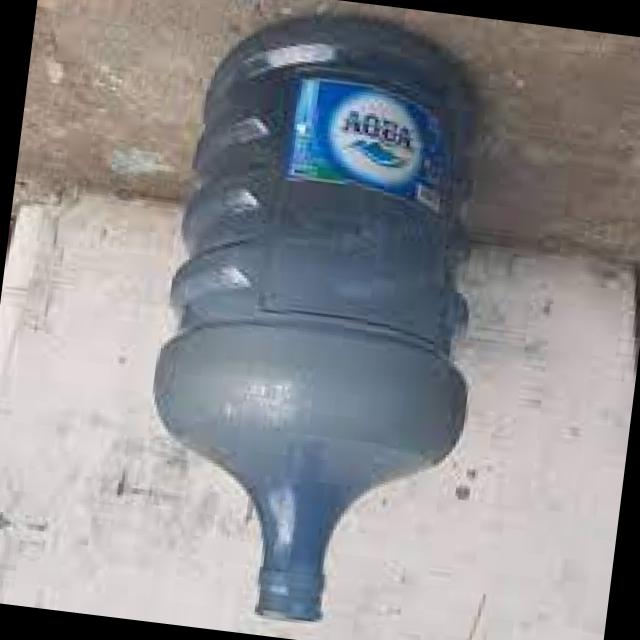Galon: (126, 0, 516, 640)
